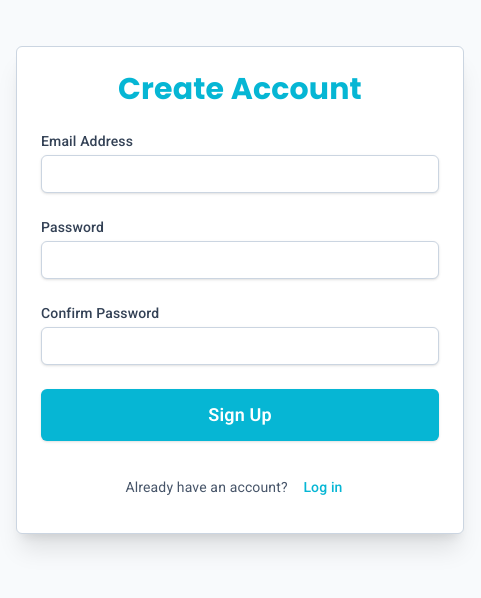
SignupPage › displays "Passwords do not match" error with role="alert"
The width and height of the screenshot is (481, 598).
Type "test@example.com" into the field labelled "Email Address" at (240, 174), box [41,155,439,193]
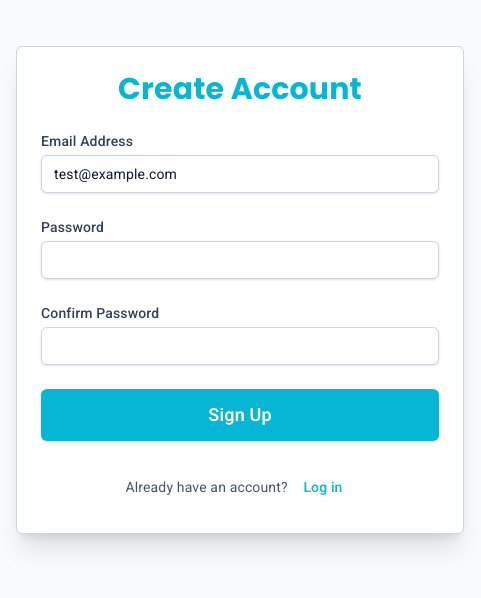
Type "password123" into the password field labelled "Password" at (240, 260), box [41,241,439,279]
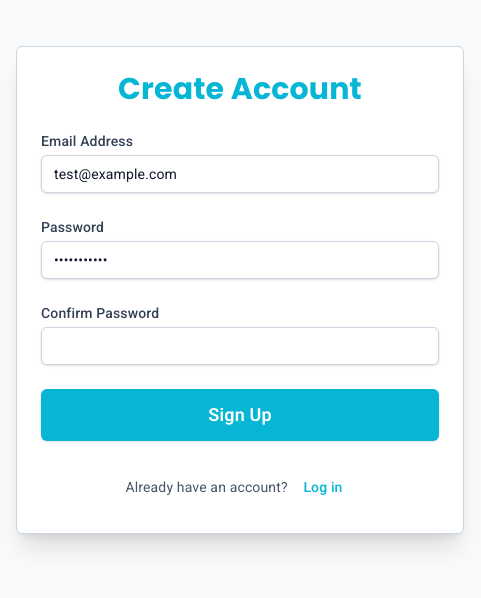
Type "password456" into the password field labelled "Confirm Password" at (240, 346), box [41,327,439,365]
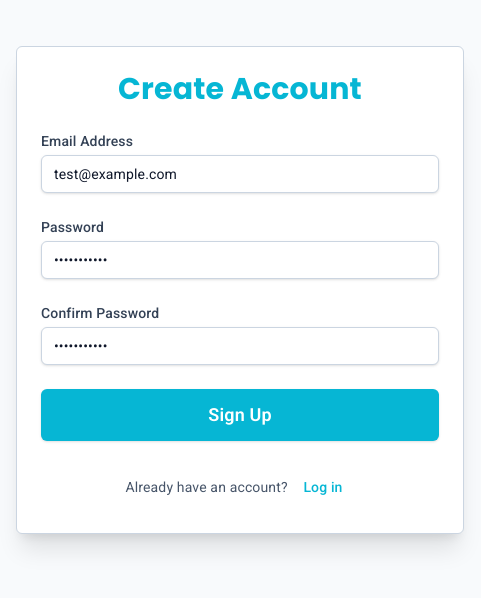
// No need to await act if the state update is synchronous, which setError for password mismatch is
Click the button "Sign Up" at (240, 415), box [41,389,439,441]
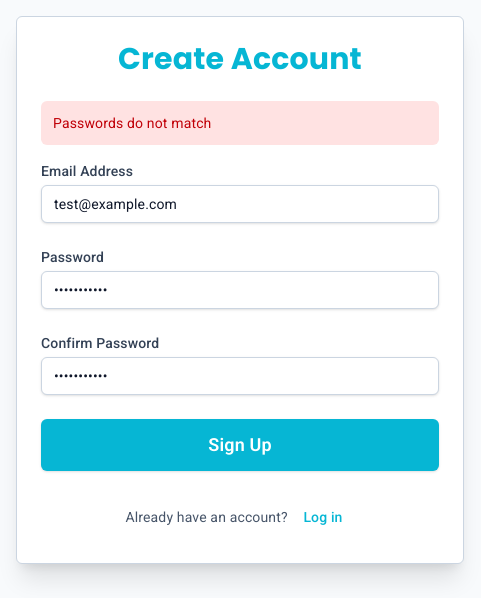
Check: the text "Passwords do not match" is shown, box [41,101,439,145]
